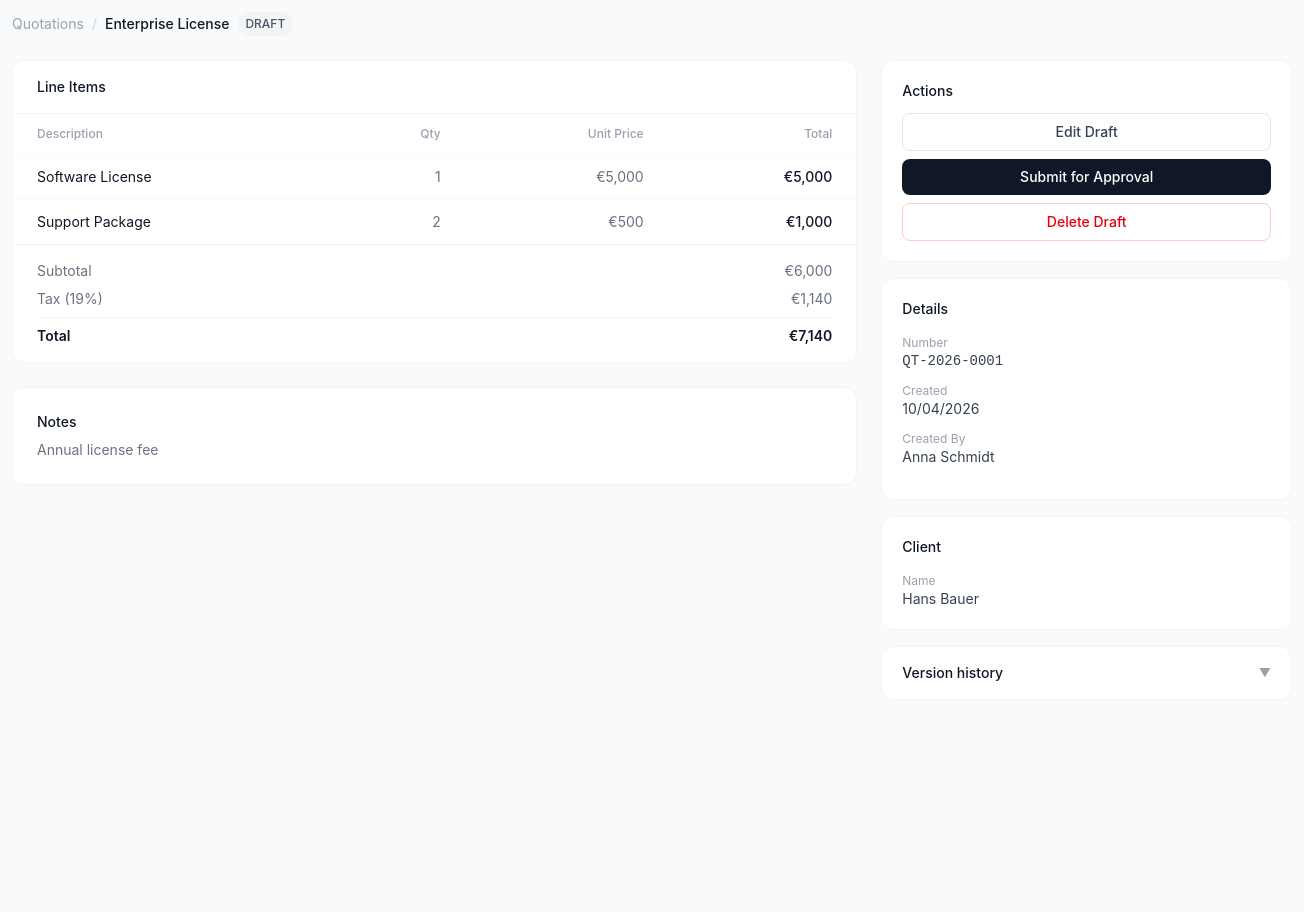
it: QuotationDetailPage › delete draft › hides confirmation when Cancel is clicked
Click the button "Delete Draft". click: (1087,222)
box: [902,203,1271,241]
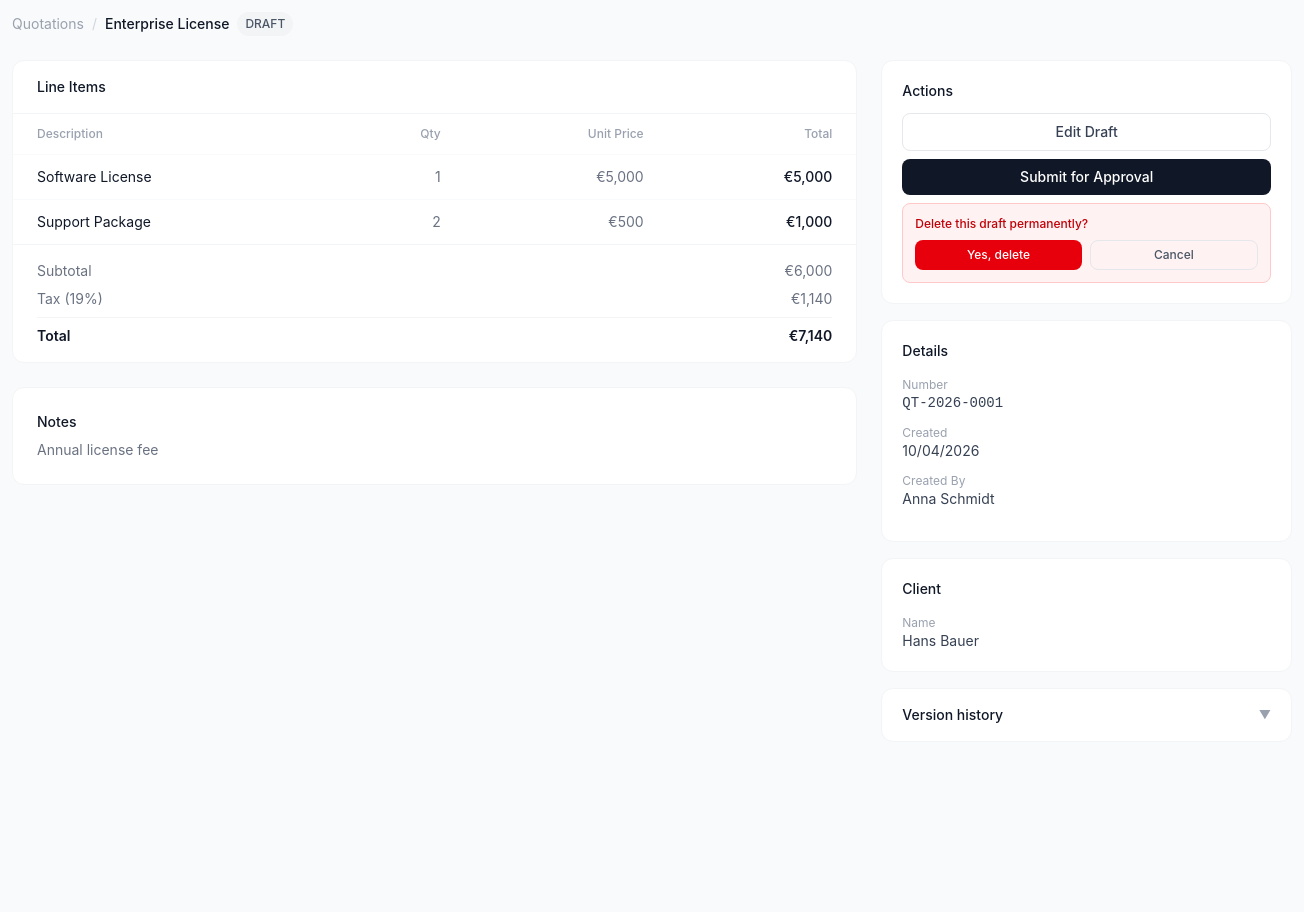
Click the button "Cancel". click: (1174,255)
box: [1090,240,1258,270]
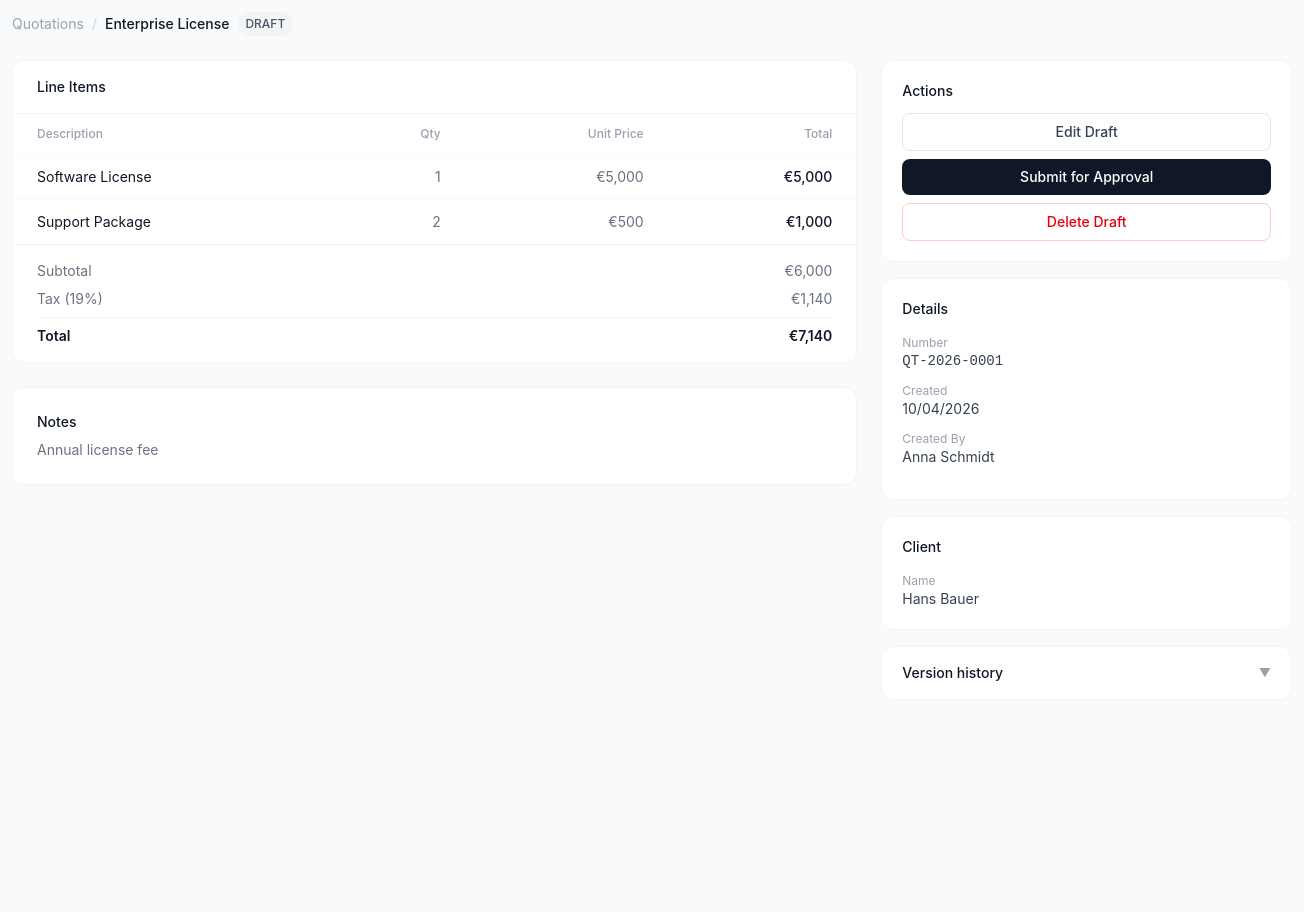
Expected: the text "Delete this draft permanently?" is gone
Expected: the button "Delete Draft" is shown, [902,203,1271,241]
